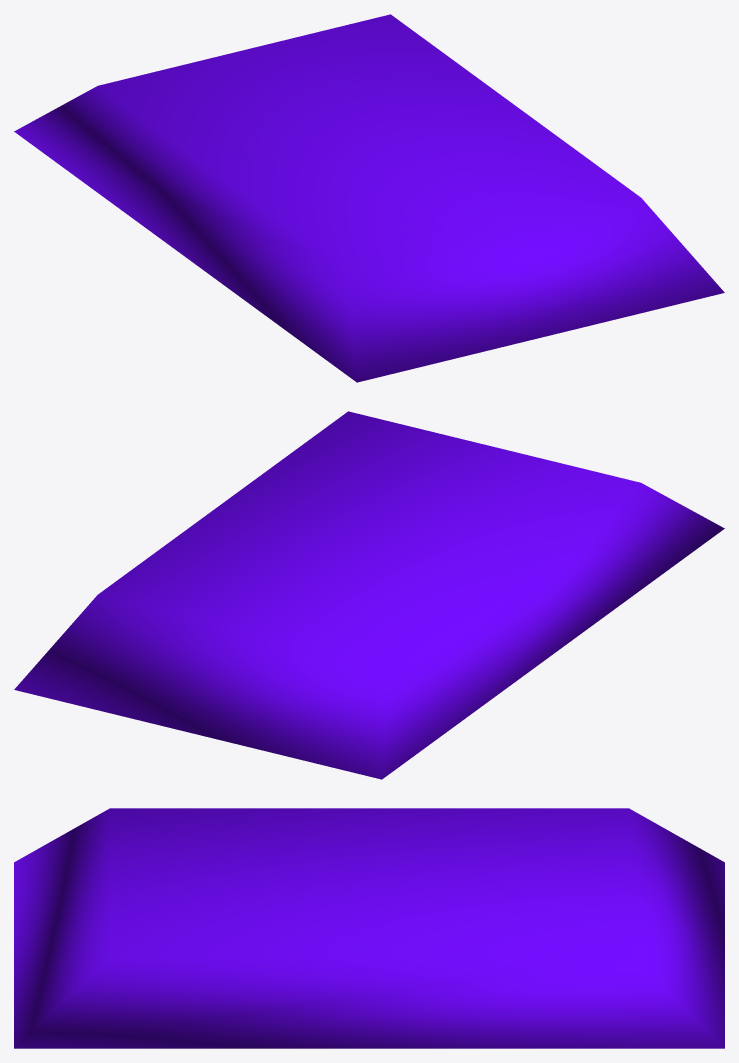
The model's file is hospital_staff_medicine_pillSheet_1_meshCollider.fbx.
3 views of the same model, one above another, from view 1: azimuth 30°, elevation 25°; view 2: azimuth 150°, elevation 25°; view 3: azimuth 270°, elevation 25° (orthographic). The views are drawn at different scales.
Visible parts, largest first — view 1: hospital_staff_medicine_pillSheet_1_meshCollider; view 2: hospital_staff_medicine_pillSheet_1_meshCollider; view 3: hospital_staff_medicine_pillSheet_1_meshCollider.
Boxes of the visible parts, x1,y1,x2,y2 form: hospital_staff_medicine_pillSheet_1_meshCollider: [14, 14, 724, 382]; hospital_staff_medicine_pillSheet_1_meshCollider: [14, 411, 724, 779]; hospital_staff_medicine_pillSheet_1_meshCollider: [14, 808, 724, 1048].
Size of the model in its own units: 11.5 by 2.1 by 18.56.
